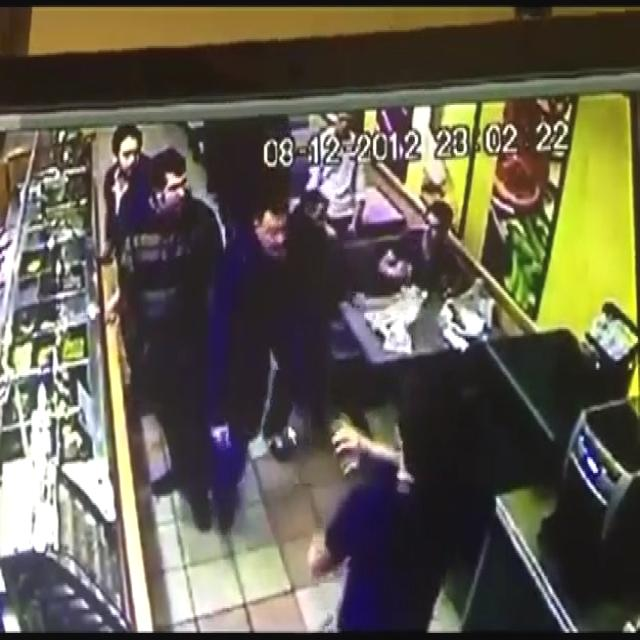fight: (220, 197, 450, 628)
